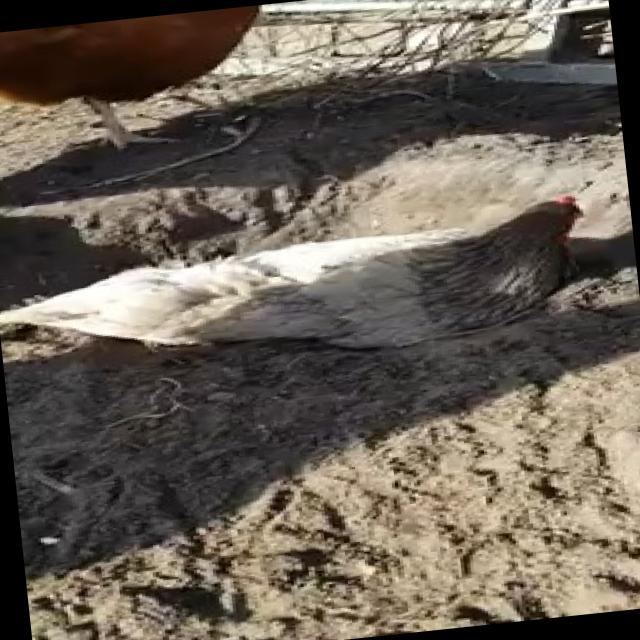stand bath: (0, 172, 620, 390)
